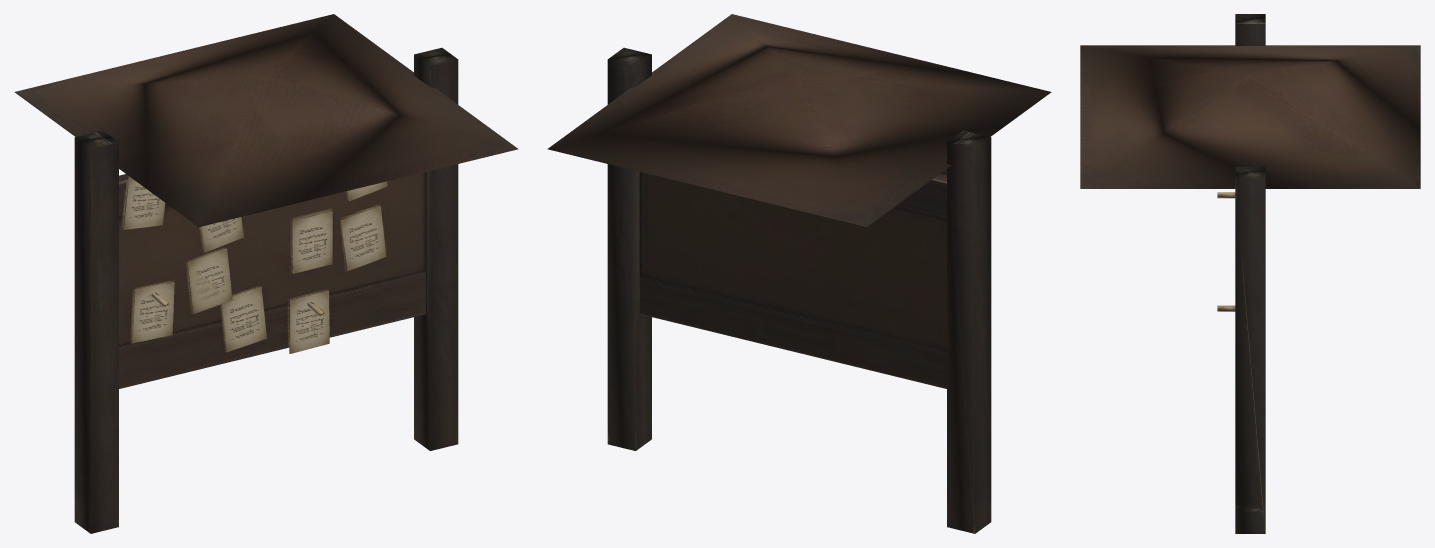
Rendered from quest_board.glb.
The picture shows the model from 3 angles, left to right: view 1: azimuth 30°, elevation 25°; view 2: azimuth 150°, elevation 25°; view 3: azimuth 270°, elevation 25°; orthographic projection. The views are drawn at different scales.
Visible parts, largest first — view 1: quest_board; view 2: quest_board; view 3: quest_board.
Part boxes in pixels (<box>): quest_board: <box>14,14,518,533</box>; quest_board: <box>547,14,1051,533</box>; quest_board: <box>1080,14,1420,533</box>.
Size of the model in its own units: 2.6 by 2.75 by 2.26.
1 material, 1 textured.
